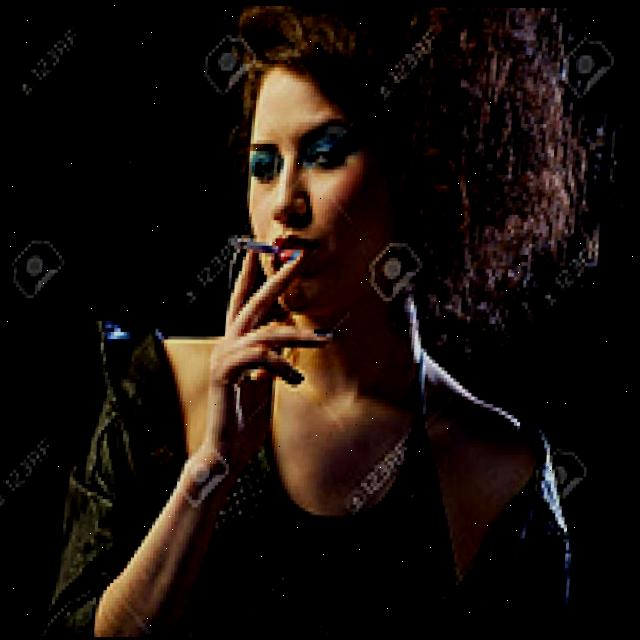cigarette: (233, 235, 285, 252)
